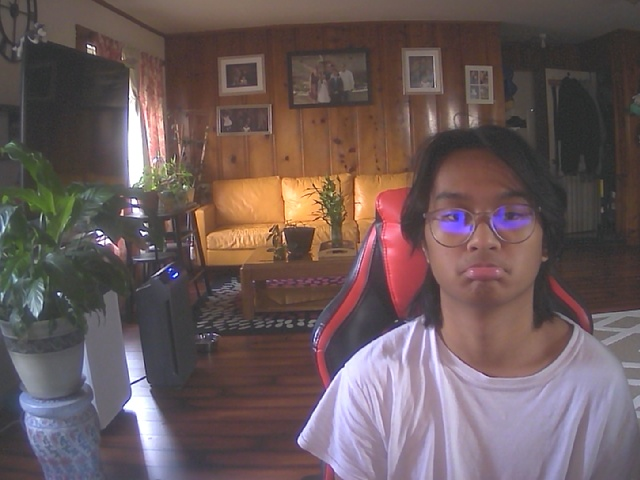sad: (418, 128, 554, 306)
